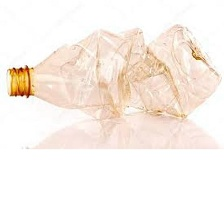bottle: (1, 19, 223, 123)
